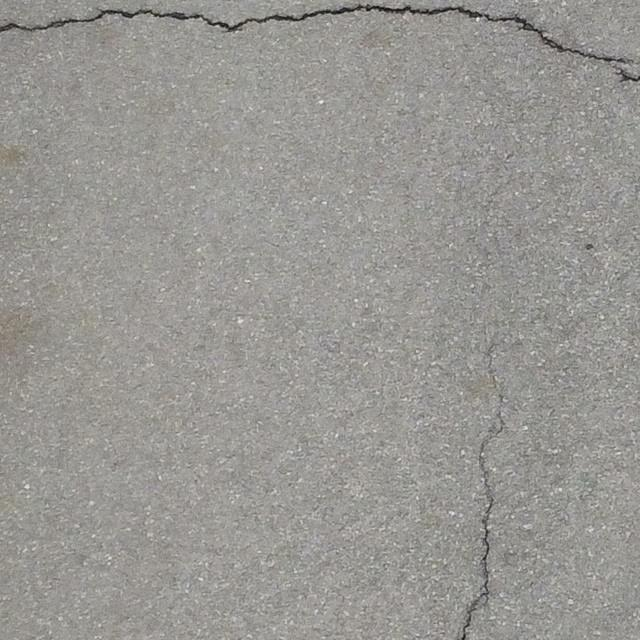LongitudinalCrack: (457, 345, 504, 640)
TransverseCrack: (1, 1, 639, 82)
